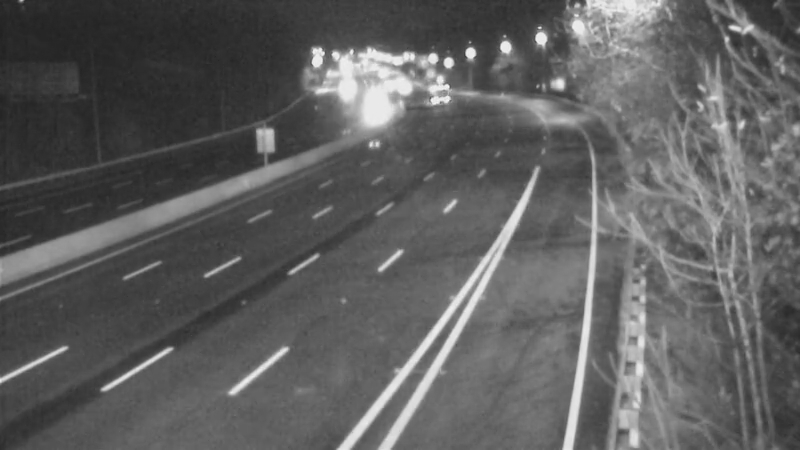vehicle: (411, 69, 461, 119), (345, 78, 395, 128), (319, 65, 369, 115)
